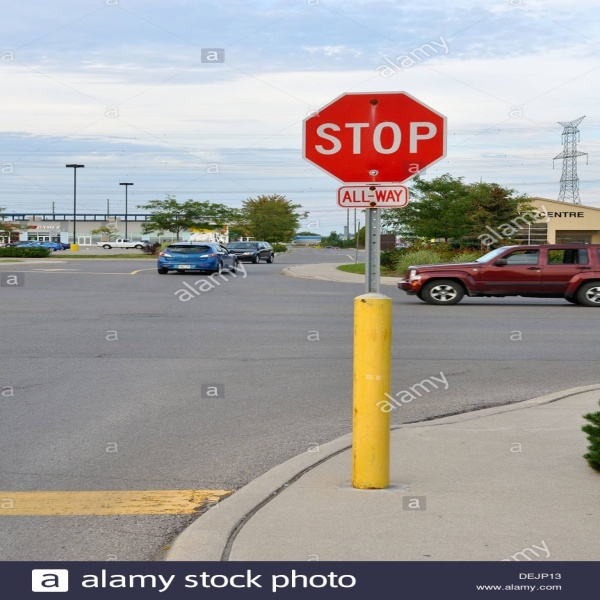stop: (298, 90, 450, 186)
